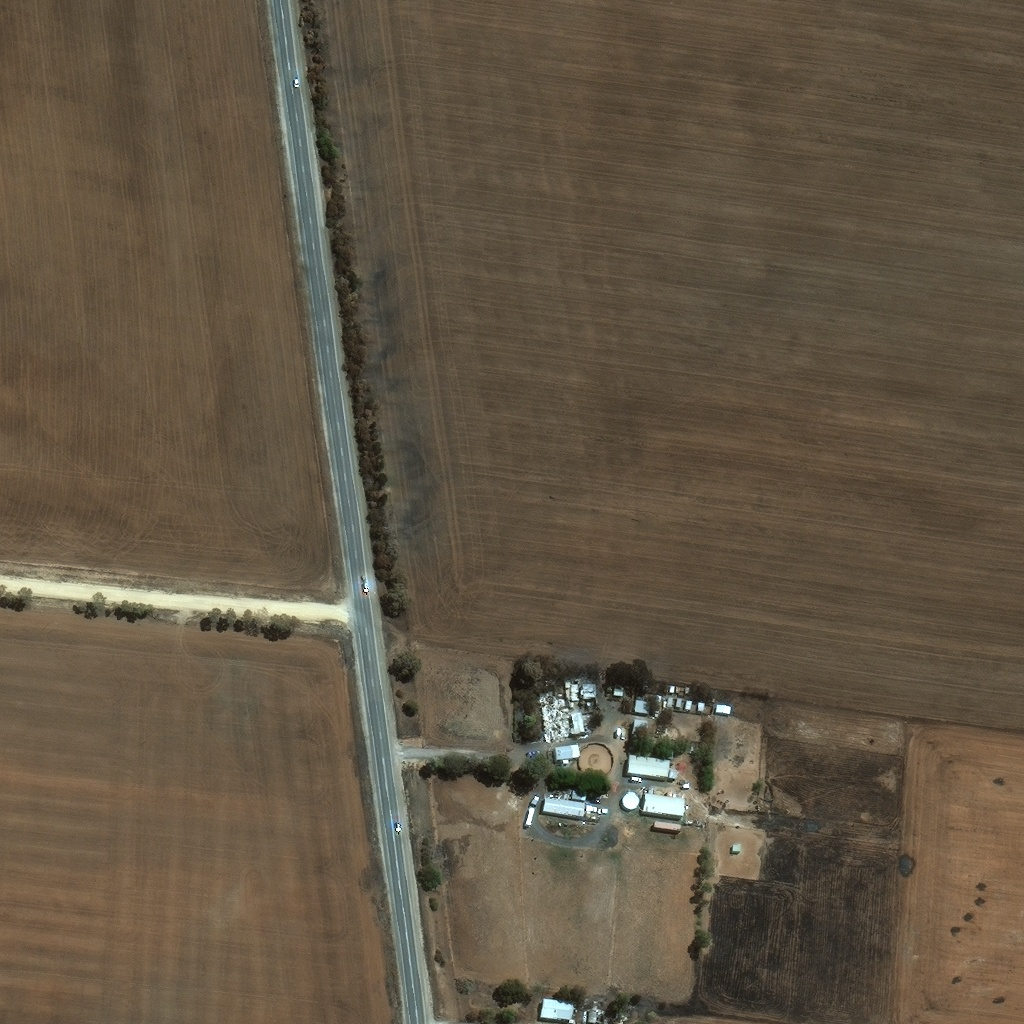0 no-damage: (627, 756, 679, 780), (643, 793, 686, 818), (542, 998, 575, 1021), (631, 720, 649, 744), (556, 744, 580, 759), (623, 791, 641, 809), (654, 822, 682, 831), (573, 790, 588, 800), (674, 793, 686, 803), (615, 685, 625, 695), (622, 725, 629, 737), (732, 843, 741, 850), (564, 758, 571, 762)
2 major-damage: (543, 786, 586, 817)
3 destroyed: (543, 702, 596, 739), (573, 680, 598, 703), (784, 816, 825, 828), (589, 1007, 611, 1023), (542, 692, 558, 705), (618, 1008, 632, 1019), (685, 814, 695, 823), (566, 682, 572, 687), (570, 702, 576, 707), (567, 690, 571, 696)
4 un-classified: (635, 700, 650, 714), (717, 704, 733, 715), (657, 694, 664, 713), (676, 697, 686, 710), (665, 697, 676, 708), (699, 702, 707, 712), (687, 699, 694, 710), (677, 685, 684, 694), (685, 685, 693, 692), (687, 754, 695, 761), (670, 684, 676, 693)
